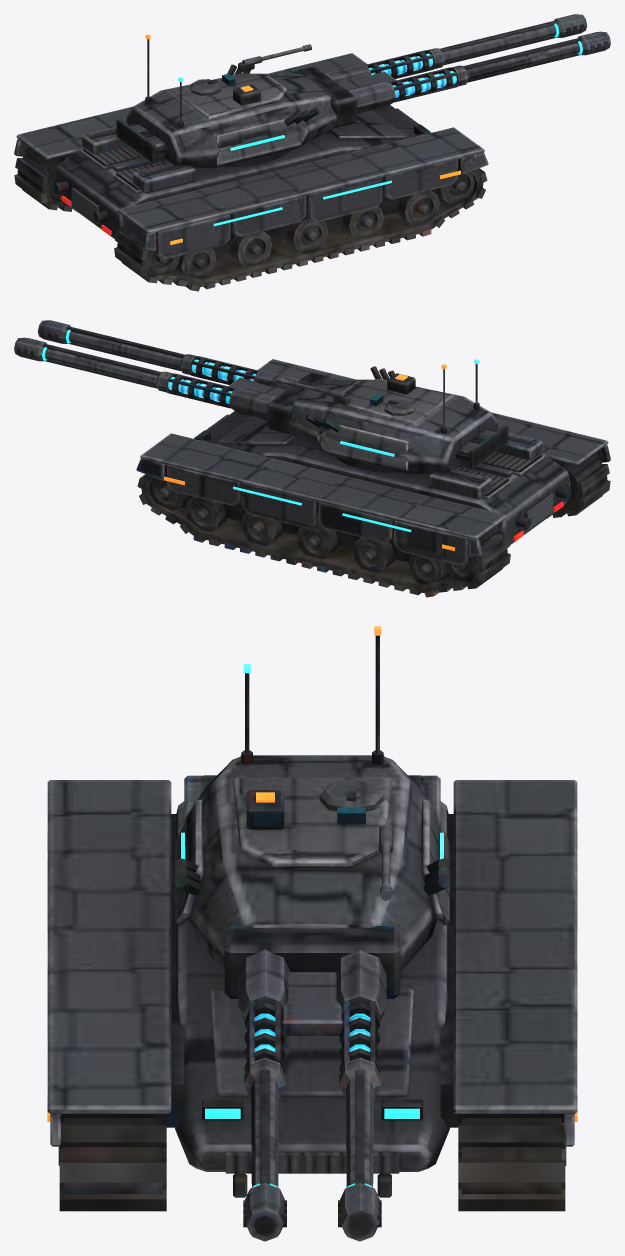
Rendered from lancer.glb.
3 renders of one model, top to bottom at view 1: azimuth 30°, elevation 25°; view 2: azimuth 150°, elevation 25°; view 3: azimuth 270°, elevation 25°, orthographic. The views are drawn at different scales.
Visible parts, largest first — view 1: Hull, Turret; view 2: Hull, Turret; view 3: Hull, Turret.
Part boxes in pixels (bbox=[...]): Hull: bbox=[14, 53, 488, 291]; Turret: bbox=[116, 14, 610, 168]; Hull: bbox=[136, 359, 610, 597]; Turret: bbox=[14, 320, 508, 474]; Hull: bbox=[47, 775, 577, 1211]; Turret: bbox=[174, 626, 450, 1241].
Size of the model in its own units: 10.1 by 3.55 by 4.47.
Materials: 1 (1 with a texture image).
